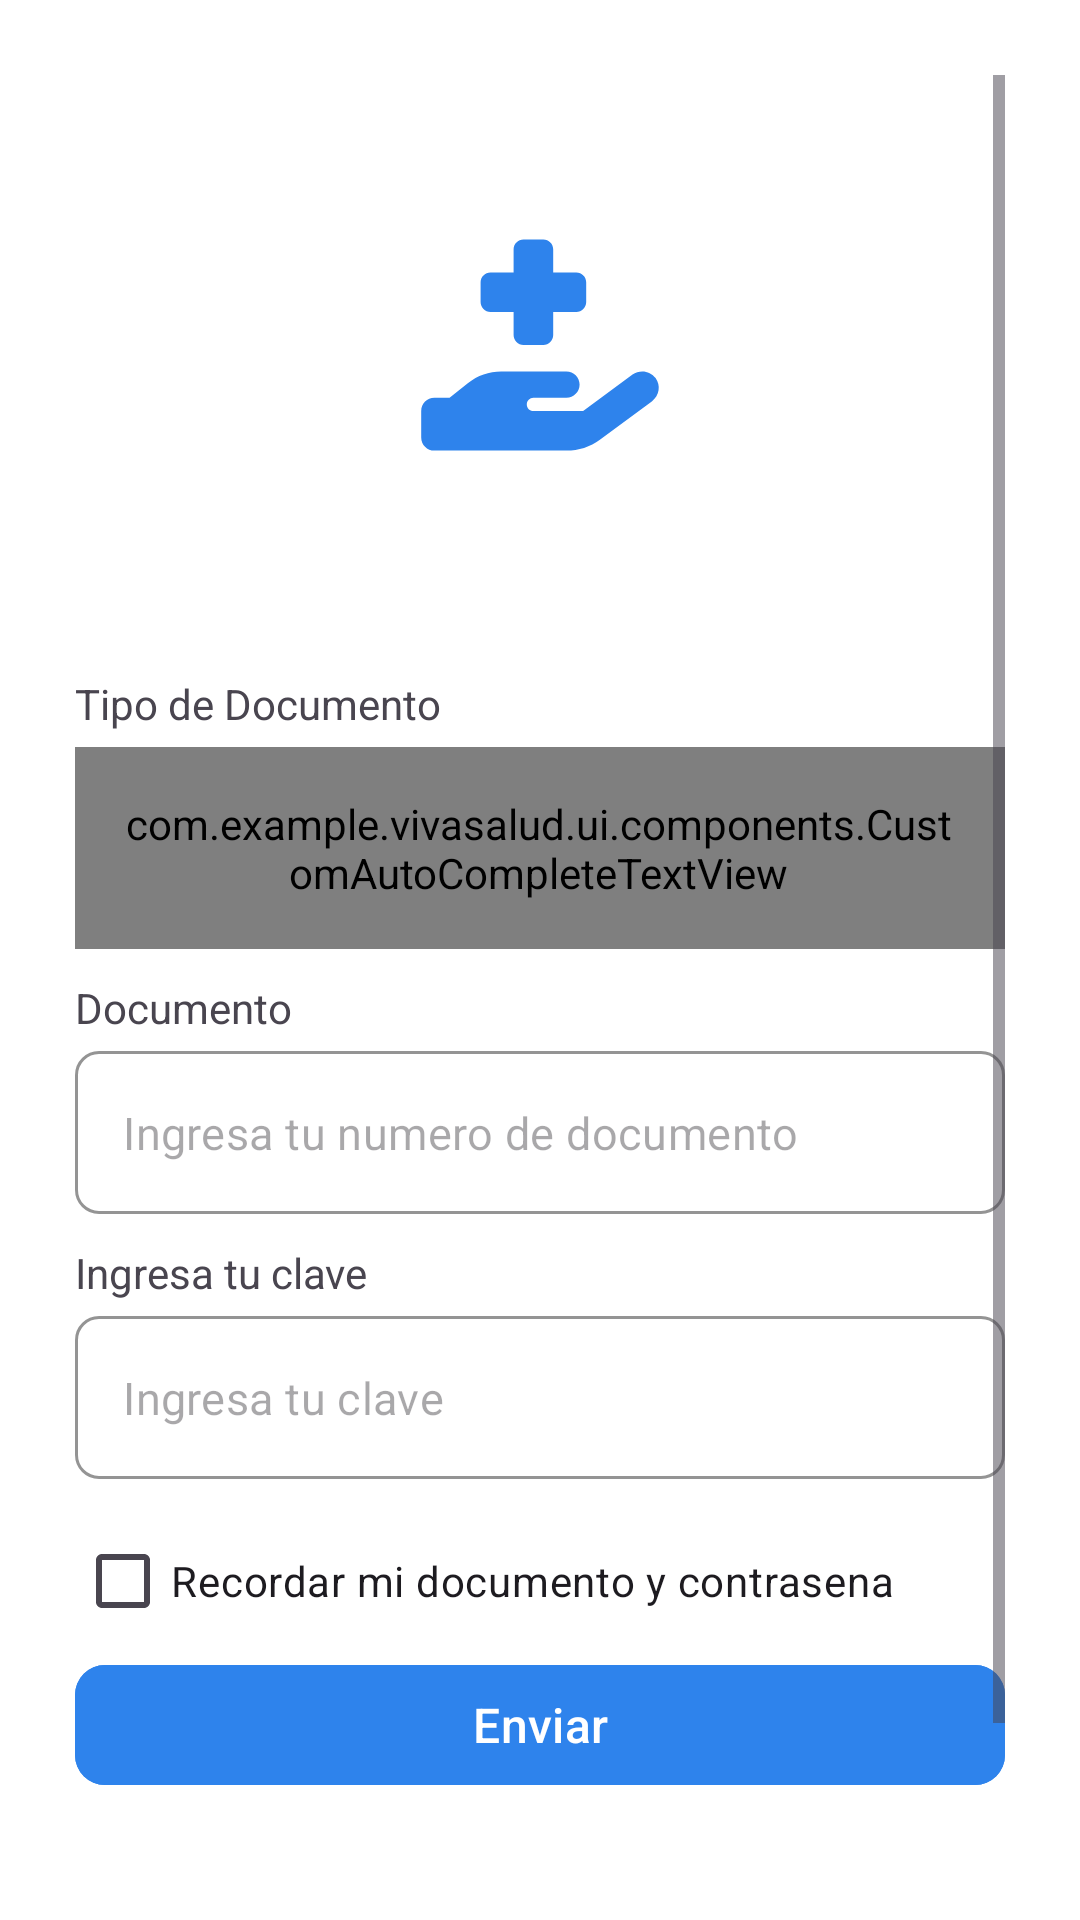

Screen size 1080*1920. Icon name, then its box in pixels as box=[x1, y1, x2, y2]:
Icono Viva Salud: box=[421, 239, 659, 451]
